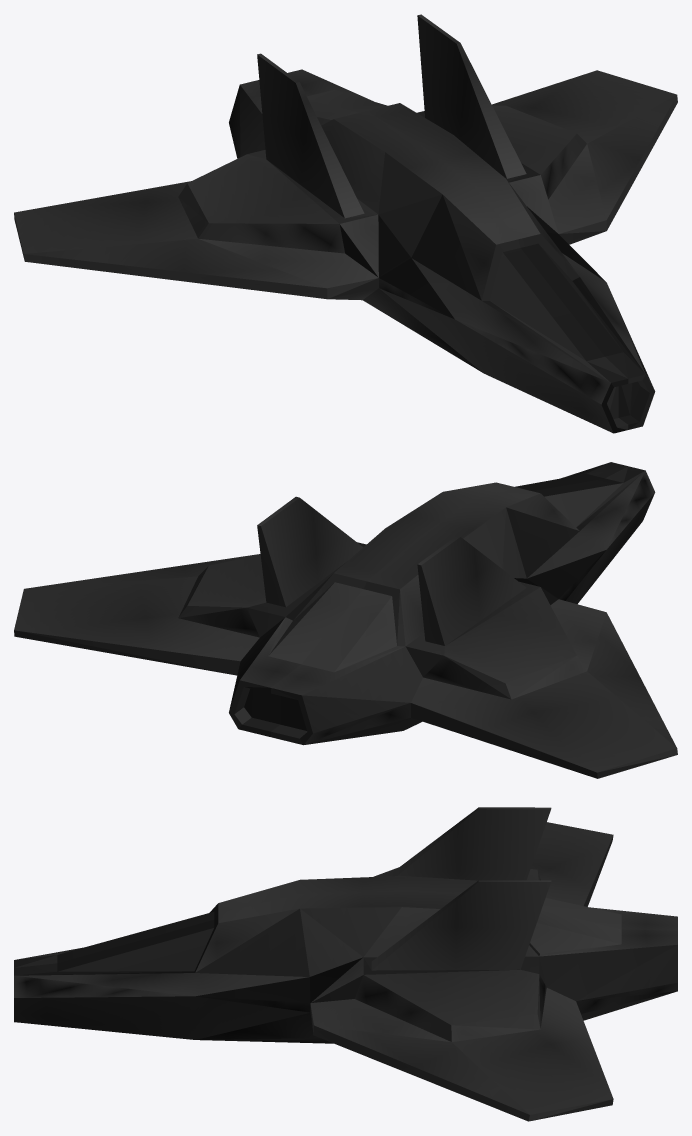
Rendered from spaceships.glb.
3 views of the same model, one above another, from view 1: azimuth 30°, elevation 25°; view 2: azimuth 150°, elevation 25°; view 3: azimuth 270°, elevation 25° (orthographic). The views are drawn at different scales.
Visible parts, largest first — view 1: node_id30; view 2: node_id30; view 3: node_id30.
Boxes of the visible parts, x1,y1,x2,y2 form: node_id30: (14, 14, 677, 433); node_id30: (14, 462, 677, 778); node_id30: (14, 807, 677, 1121).
Bounding box in the file's own units: 0.512 × 0.1403 × 0.4852.
1 material, 1 textured.
